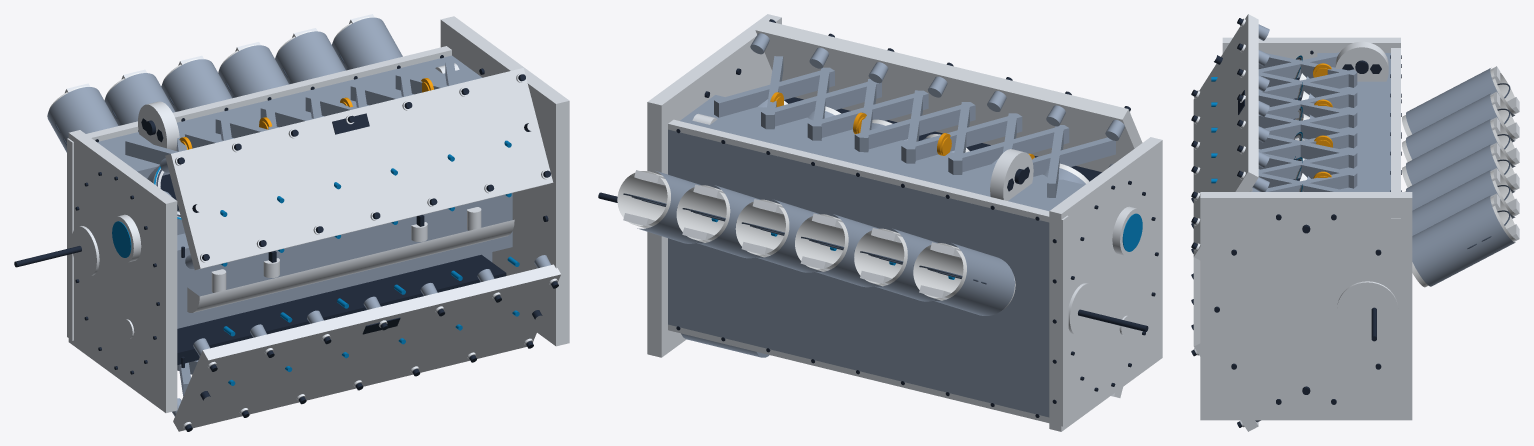
The model's file is engine-block.glb.
3 views of the same model, side by side, from view 1: azimuth 30°, elevation 25°; view 2: azimuth 150°, elevation 25°; view 3: azimuth 270°, elevation 25° (orthographic). The views are drawn at different scales.
Parts seen in each view (by area): view 1: Bank_1_Left_CNC_Deck_Slab, Bank_2_Right_CNC_Deck_Slab, Timing_Cover_Mating_Face, Central_Valley_Floor_Casting, Rear_Bellhousing_Face, Gravity_Oil_Drainback_Chute_Left, Deep_Skirt_Crankcase_Housing, Valley_Oil_Drainage_Trough, Continuous_CNC_Pan_Rail, Liner_Outer_Sleeve_Cyl_2, Liner_Outer_Sleeve_Cyl_12, Liner_Outer_Sleeve_Cyl_10 (+10 smaller); view 2: Deep_Skirt_Crankcase_Housing, Timing_Cover_Mating_Face, Bank_1_Left_CNC_Deck_Slab, Rear_Bellhousing_Face, Continuous_CNC_Pan_Rail, Liner_Outer_Sleeve_Cyl_2, Lattice_Rib_Right_B_4, Nikasil_Hone_Surface_Cyl_2, Nikasil_Hone_Surface_Cyl_12, Lattice_Rib_Right_B_7, Nikasil_Hone_Surface_Cyl_4, Nikasil_Hone_Surface_Cyl_10 (+23 smaller); view 3: Rear_Bellhousing_Face, Bank_1_Left_CNC_Deck_Slab, Liner_Outer_Sleeve_Cyl_12, Deep_Skirt_Crankcase_Housing, Continuous_CNC_Pan_Rail, Rear_Main_Seal_Carrier, Liner_Outer_Sleeve_Cyl_4, Liner_Outer_Sleeve_Cyl_6, Liner_Outer_Sleeve_Cyl_2, Timing_Cover_Mating_Face, Liner_Outer_Sleeve_Cyl_8, Liner_Outer_Sleeve_Cyl_10 (+22 smaller).
Part boxes in pixels (left/top/right/bottom): Bank_1_Left_CNC_Deck_Slab: left=165, top=68, right=553, bottom=270; Bank_2_Right_CNC_Deck_Slab: left=173, top=264, right=560, bottom=431; Timing_Cover_Mating_Face: left=68, top=130, right=177, bottom=412; Central_Valley_Floor_Casting: left=177, top=193, right=512, bottom=328; Rear_Bellhousing_Face: left=440, top=16, right=569, bottom=346; Gravity_Oil_Drainback_Chute_Left: left=177, top=254, right=506, bottom=364; Deep_Skirt_Crankcase_Housing: left=97, top=55, right=492, bottom=261; Valley_Oil_Drainage_Trough: left=187, top=219, right=514, bottom=312; Continuous_CNC_Pan_Rail: left=67, top=46, right=451, bottom=340; Liner_Outer_Sleeve_Cyl_2: left=47, top=87, right=118, bottom=152; Liner_Outer_Sleeve_Cyl_12: left=332, top=17, right=402, bottom=70; Liner_Outer_Sleeve_Cyl_10: left=275, top=31, right=345, bottom=84; Deep_Skirt_Crankcase_Housing: left=668, top=95, right=1084, bottom=417; Timing_Cover_Mating_Face: left=1049, top=137, right=1162, bottom=431; Bank_1_Left_CNC_Deck_Slab: left=755, top=19, right=1142, bottom=172; Rear_Bellhousing_Face: left=647, top=14, right=781, bottom=357; Continuous_CNC_Pan_Rail: left=668, top=119, right=1068, bottom=426; Liner_Outer_Sleeve_Cyl_2: left=933, top=243, right=1014, bottom=315; Lattice_Rib_Right_B_4: left=854, top=102, right=975, bottom=151; Nikasil_Hone_Surface_Cyl_2: left=913, top=243, right=1015, bottom=309; Nikasil_Hone_Surface_Cyl_12: left=617, top=171, right=670, bottom=228; Lattice_Rib_Right_B_7: left=714, top=68, right=834, bottom=117; Nikasil_Hone_Surface_Cyl_4: left=854, top=228, right=907, bottom=286; Nikasil_Hone_Surface_Cyl_10: left=676, top=185, right=730, bottom=242; Rear_Bellhousing_Face: left=1200, top=192, right=1412, bottom=420; Bank_1_Left_CNC_Deck_Slab: left=1193, top=14, right=1258, bottom=260; Liner_Outer_Sleeve_Cyl_12: left=1412, top=195, right=1515, bottom=286; Deep_Skirt_Crankcase_Housing: left=1317, top=53, right=1390, bottom=191; Continuous_CNC_Pan_Rail: left=1391, top=48, right=1400, bottom=400; Rear_Main_Seal_Carrier: left=1337, top=281, right=1398, bottom=337; Liner_Outer_Sleeve_Cyl_4: left=1406, top=93, right=1515, bottom=159; Liner_Outer_Sleeve_Cyl_6: left=1406, top=119, right=1515, bottom=184; Liner_Outer_Sleeve_Cyl_2: left=1406, top=68, right=1514, bottom=134; Timing_Cover_Mating_Face: left=1222, top=37, right=1400, bottom=59; Liner_Outer_Sleeve_Cyl_8: left=1406, top=144, right=1514, bottom=210; Liner_Outer_Sleeve_Cyl_10: left=1412, top=170, right=1515, bottom=235.
Size of the model in its own units: 0.998 by 0.5079 by 0.5891.
